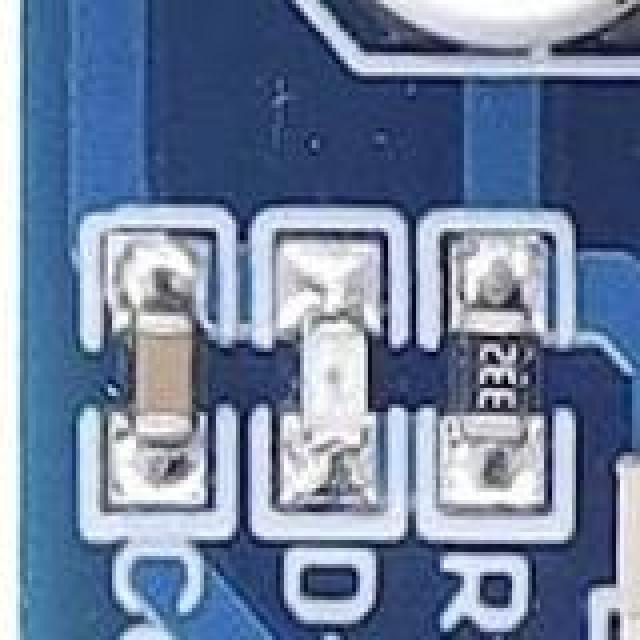LED: (292, 268, 380, 476)
capacitor: (288, 0, 640, 96), (136, 296, 220, 468)
connector: (612, 444, 640, 640)
resistor: (428, 268, 538, 488)
